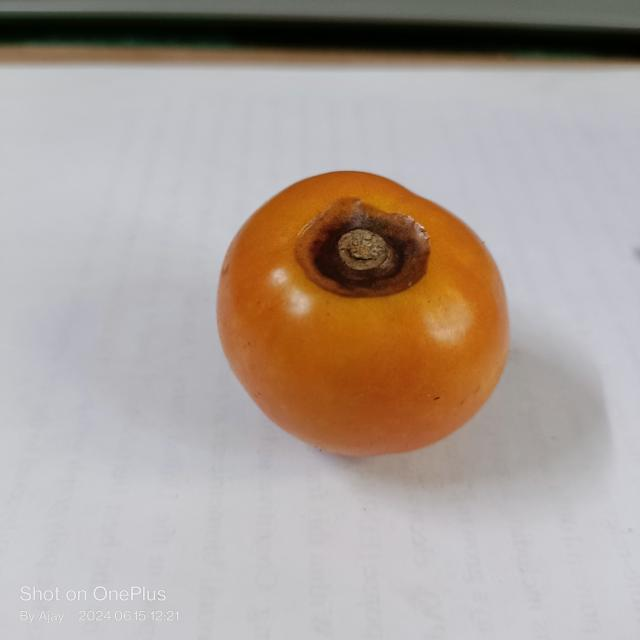Anthrocnose: (291, 200, 431, 296)
